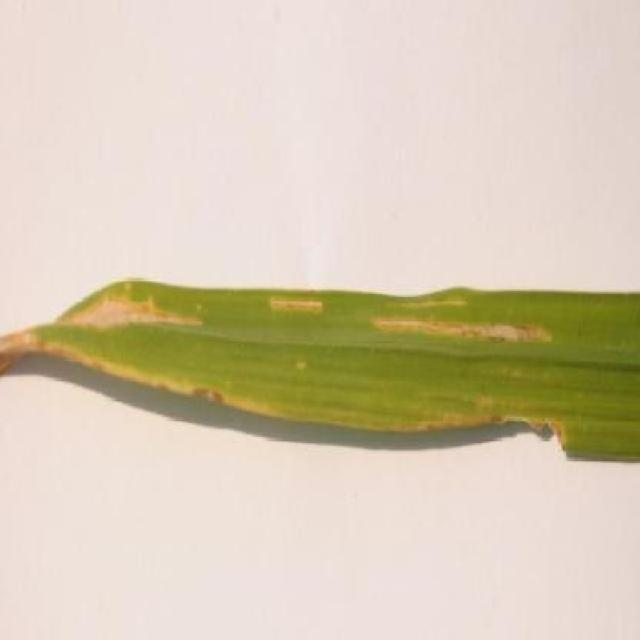Brown_Spot: (3, 265, 640, 461), (368, 296, 558, 375), (267, 286, 327, 342)
